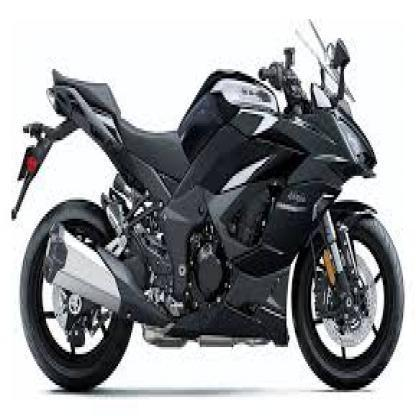Motorcycle: (9, 31, 410, 395)
